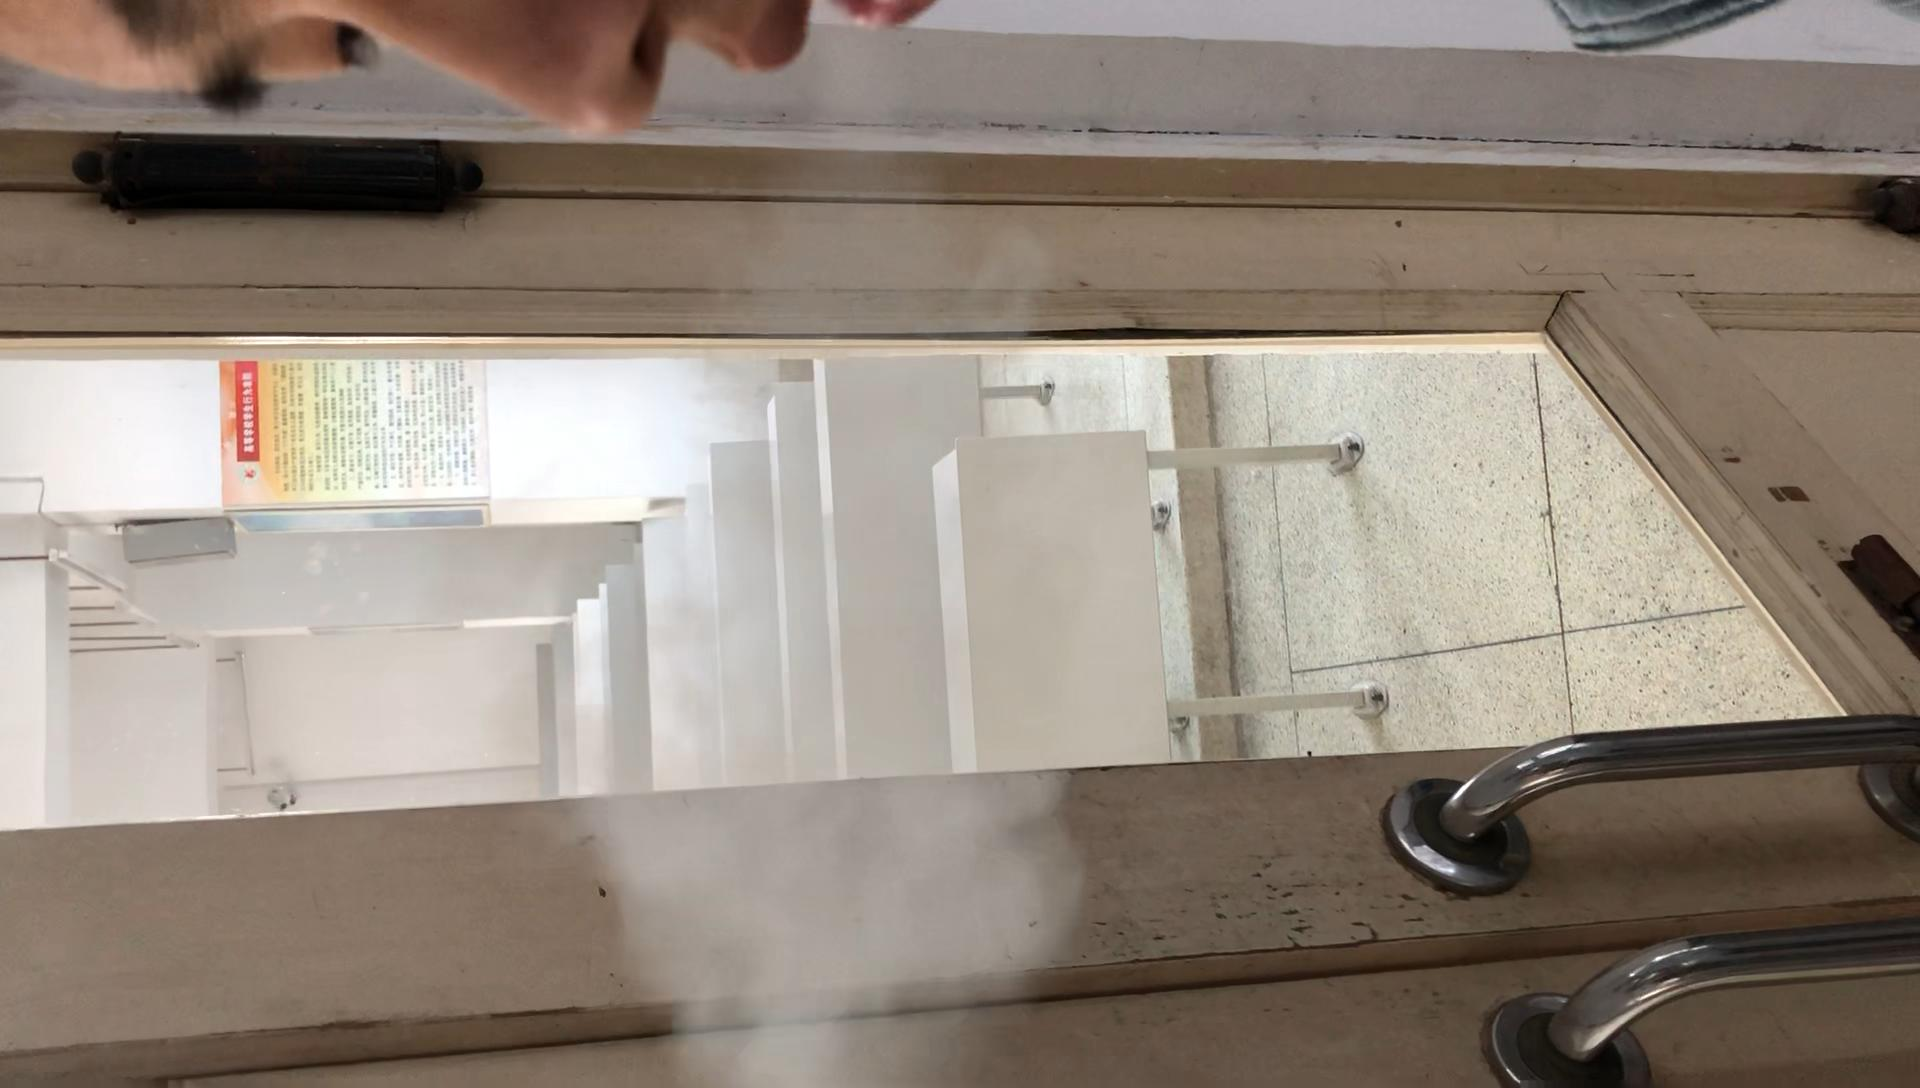yanwu: (550, 47, 1150, 1052)
